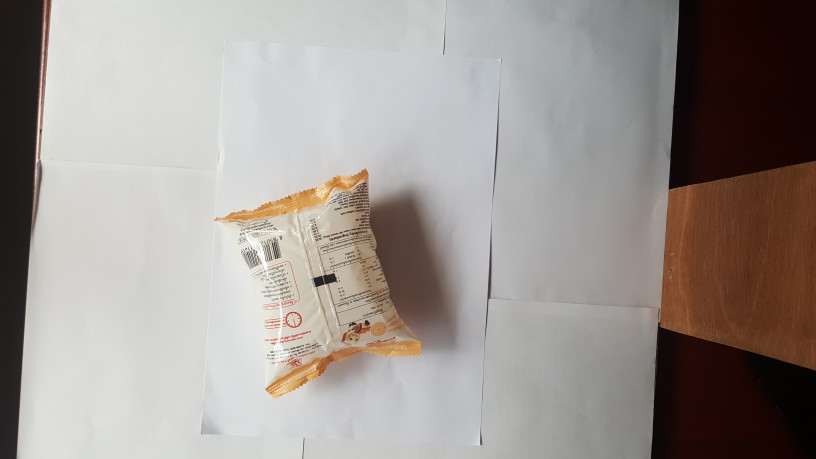farmhouse-sweetsandwich-almond: (210, 166, 436, 405)
